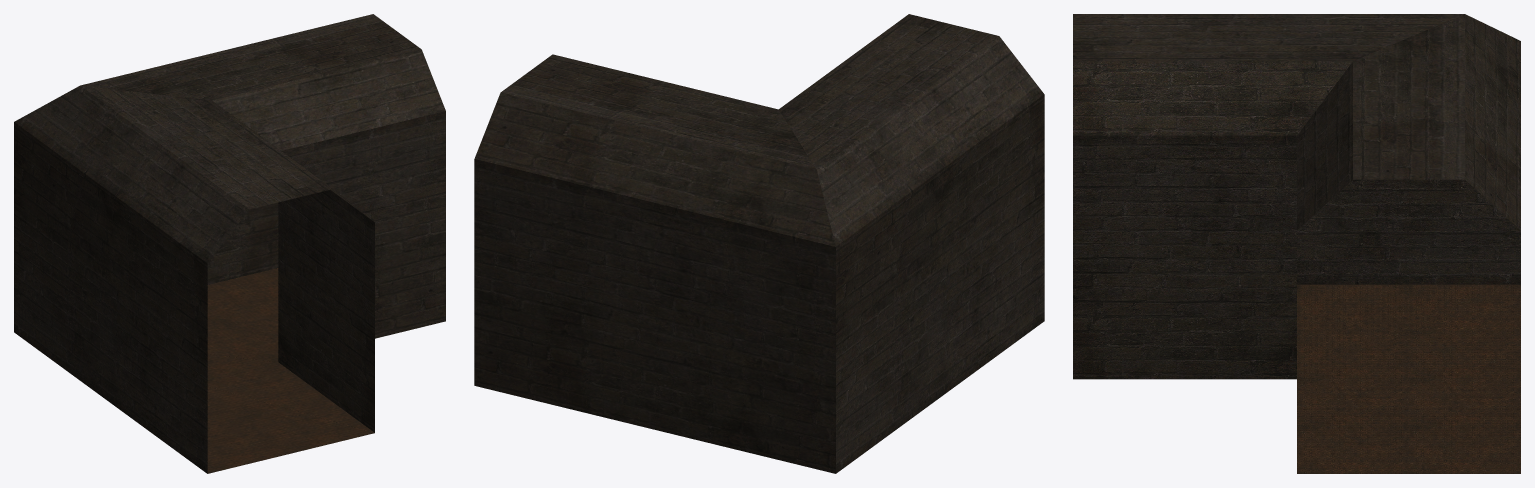
File: tunnel_mp_1_elbow.glb
3 renders of one model, left to right at view 1: azimuth 30°, elevation 25°; view 2: azimuth 150°, elevation 25°; view 3: azimuth 270°, elevation 25°, orthographic. The views are drawn at different scales.
Parts seen in each view (by area): view 1: tunnel_mp_1_elbow; view 2: tunnel_mp_1_elbow; view 3: tunnel_mp_1_elbow.
Part boxes in pixels (<box>): tunnel_mp_1_elbow: <box>14,14,445,473</box>; tunnel_mp_1_elbow: <box>474,14,1044,473</box>; tunnel_mp_1_elbow: <box>1073,14,1520,473</box>.
Size of the model in its own units: 4 by 2.9 by 4.
Materials: 2 (2 with a texture image).
